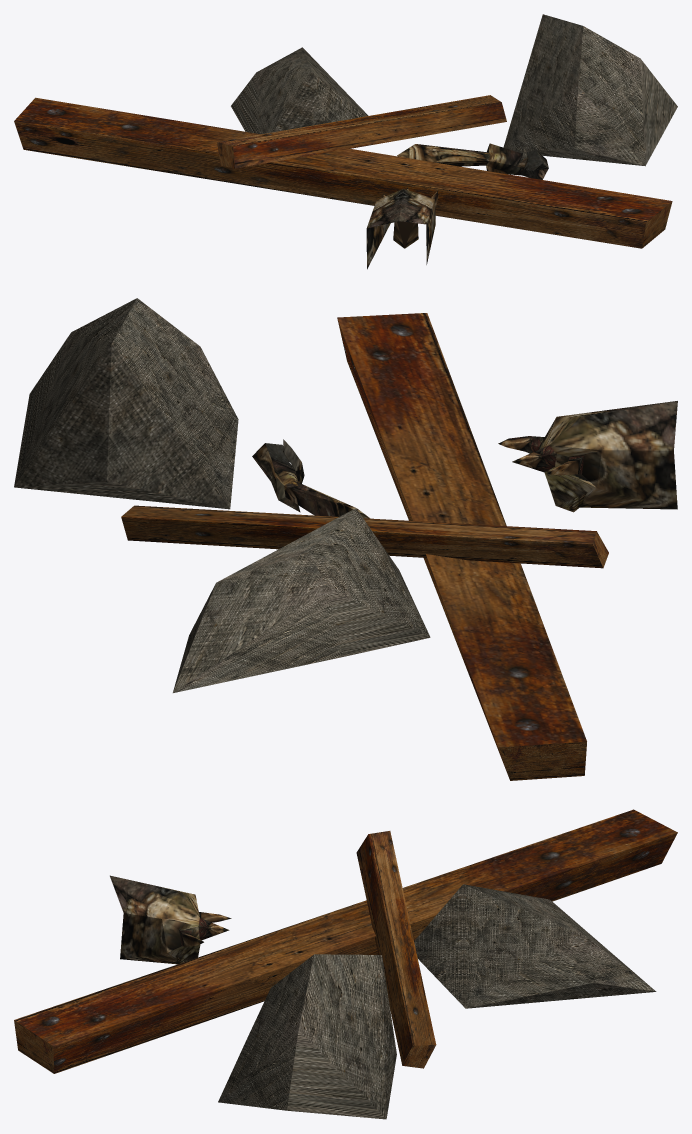
The model's file is mm9_deco_skeletondebris01.glb.
3 views of the same model, one above another, from view 1: azimuth 30°, elevation 25°; view 2: azimuth 150°, elevation 25°; view 3: azimuth 270°, elevation 25° (orthographic). The views are drawn at different scales.
Parts seen in each view (by area): view 1: Skeletondebris01; view 2: Skeletondebris01; view 3: Skeletondebris01.
Boxes of the visible parts, x1,y1,x2,y2 form: Skeletondebris01: [14, 14, 677, 269]; Skeletondebris01: [14, 298, 677, 780]; Skeletondebris01: [14, 809, 677, 1119].
Size of the model in its own units: 2.51 by 0.5817 by 2.37.
1 material, 1 textured.
